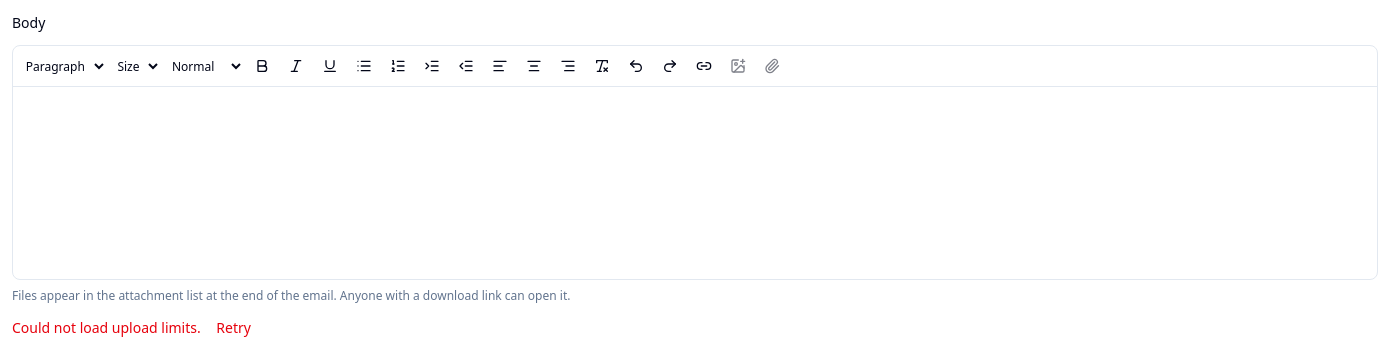
Test: disables uploads and permits retry when the policy cannot be loaded
Expected: the message shows "Could not load upload limits.", [12,318,204,337]
Expected: the button named "Upload attachment" is disabled, [756,50,788,82]
Click the button "Retry": {"x": 234, "y": 328} [204,312,263,344]
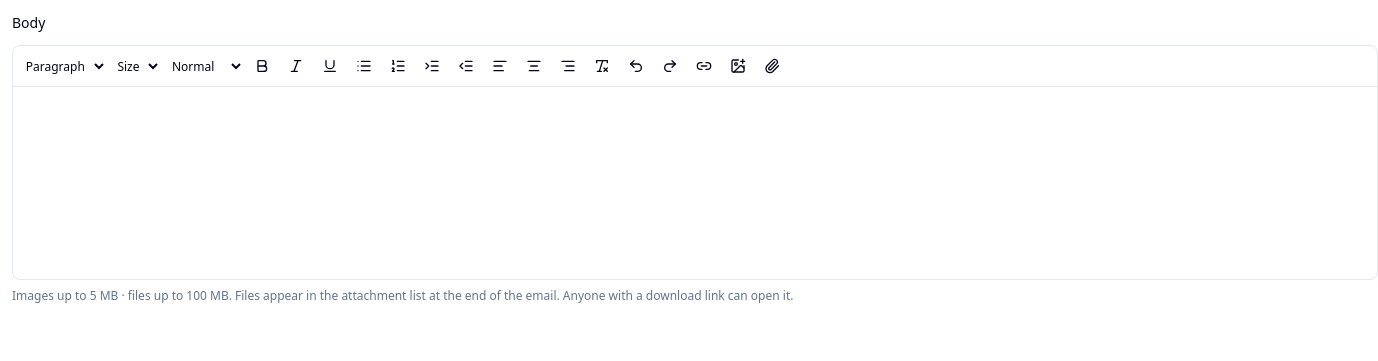
Now the text "files up to 100 MB" is shown, box [12,287,235,304]
Now the button named "Upload attachment" is enabled, box [756,50,788,82]
